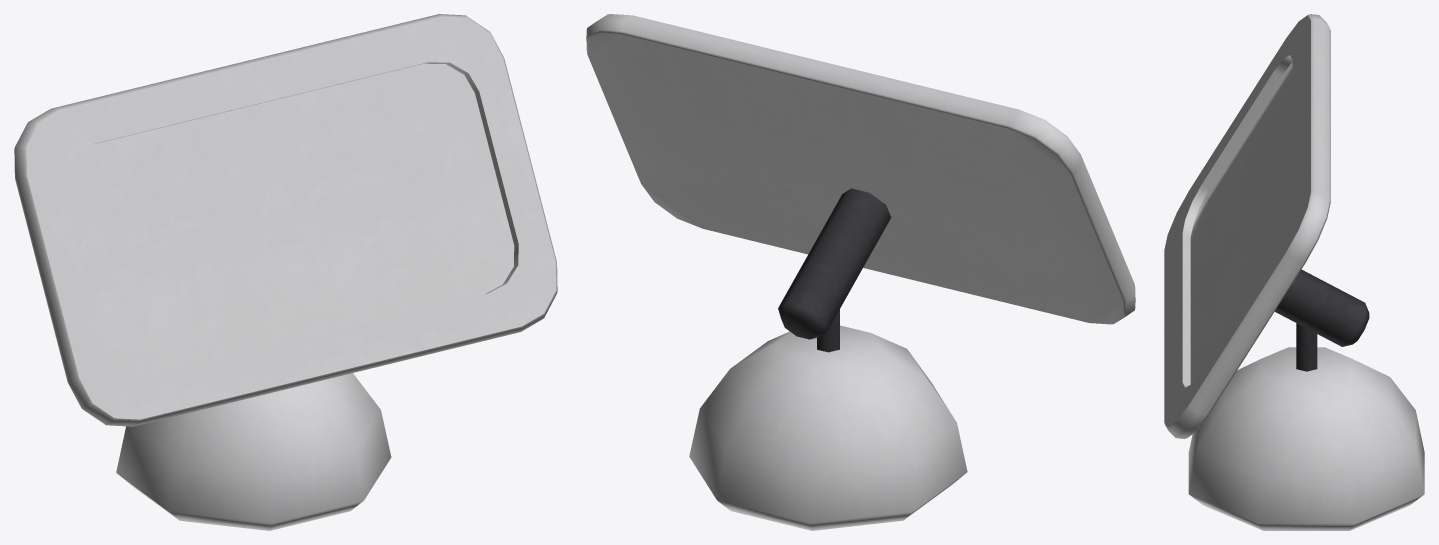
Rendered from computer00Mesh.fbx.
3 views of the same model, side by side, from view 1: azimuth 30°, elevation 25°; view 2: azimuth 150°, elevation 25°; view 3: azimuth 270°, elevation 25° (orthographic). The views are drawn at different scales.
Visible parts, largest first — view 1: computer; view 2: computer; view 3: computer.
Boxes of the visible parts, x1=… form: computer: x1=14, y1=14, x2=557, y2=530; computer: x1=586, y1=14, x2=1135, y2=530; computer: x1=1164, y1=14, x2=1424, y2=530.
Bounding box in the file's own units: 146 × 119 × 73.41.
